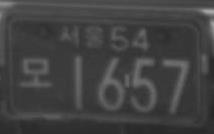1: (64, 52, 93, 111)
4: (130, 26, 152, 53)
5: (128, 56, 158, 114), (108, 23, 130, 52)
6: (96, 54, 126, 113)
7: (160, 56, 191, 116)
모: (18, 55, 54, 89)
서울_O: (57, 23, 106, 51)
